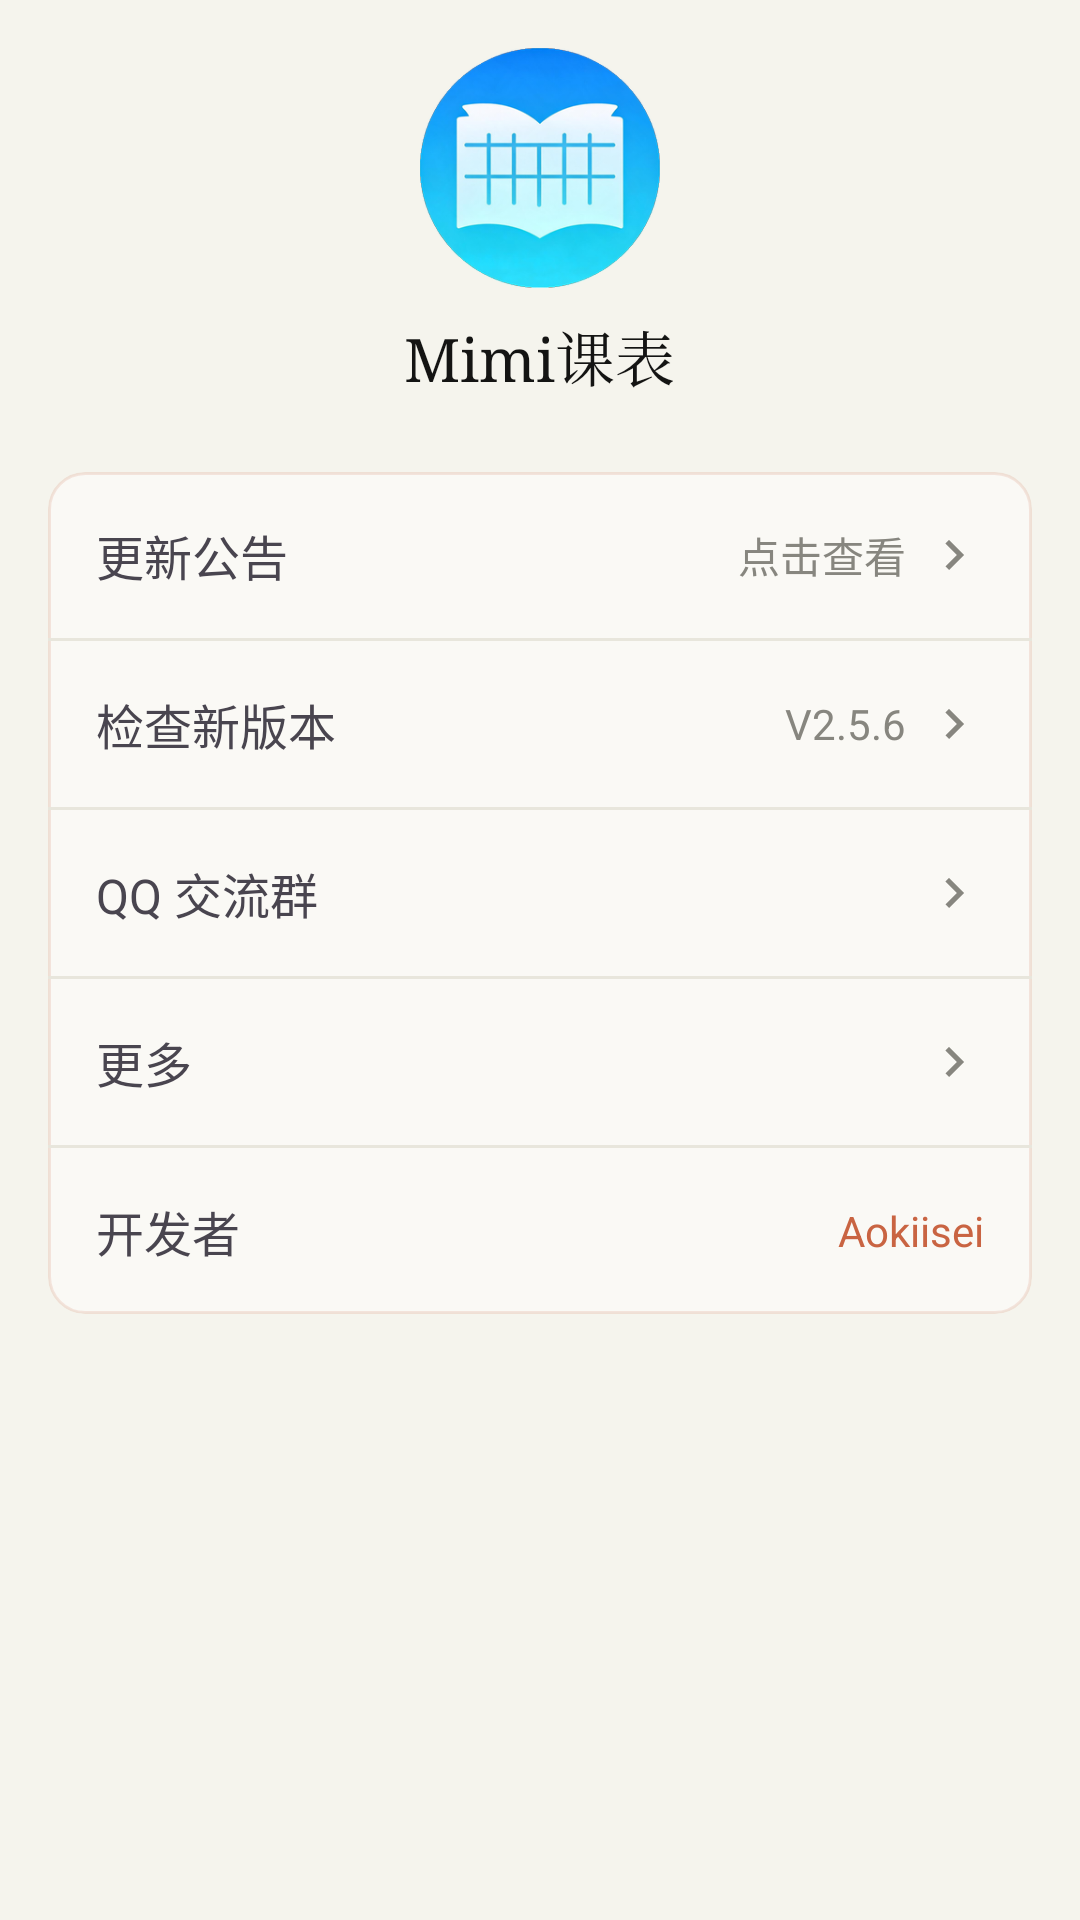

Where icons sit on this 1080x1920 app screen, as (x1, y1, x2, y2):
arrow forward: (945, 540, 964, 570), (945, 709, 964, 739), (945, 878, 964, 908), (945, 1047, 964, 1077)
